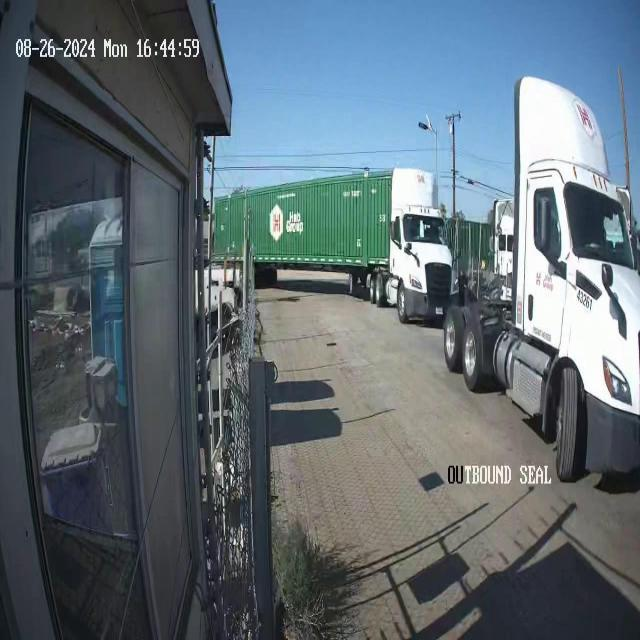TRUCK_IN: (442, 72, 640, 484), (263, 159, 452, 333)
